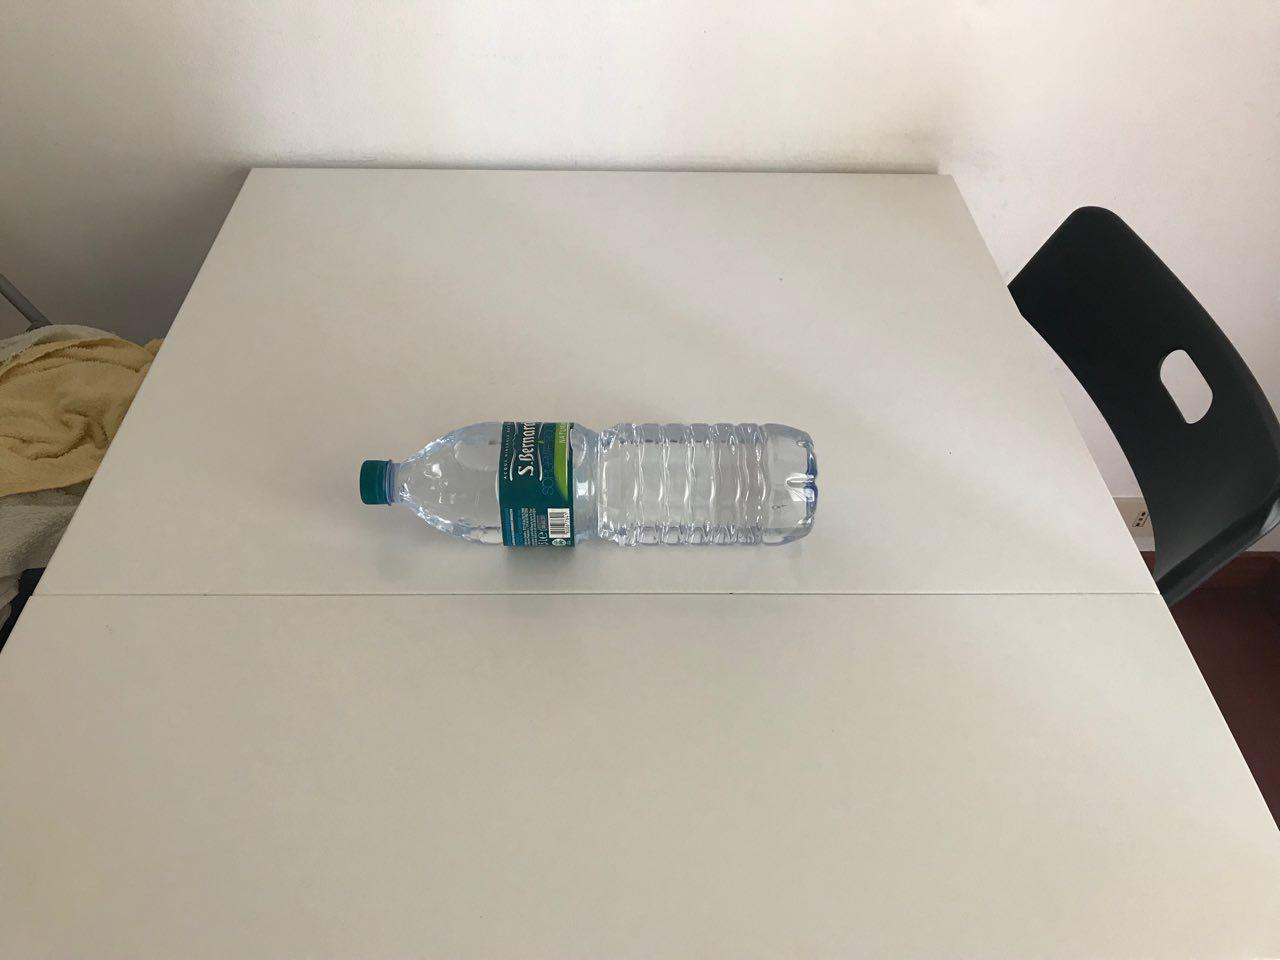san_bernardo: (358, 419, 819, 551)
